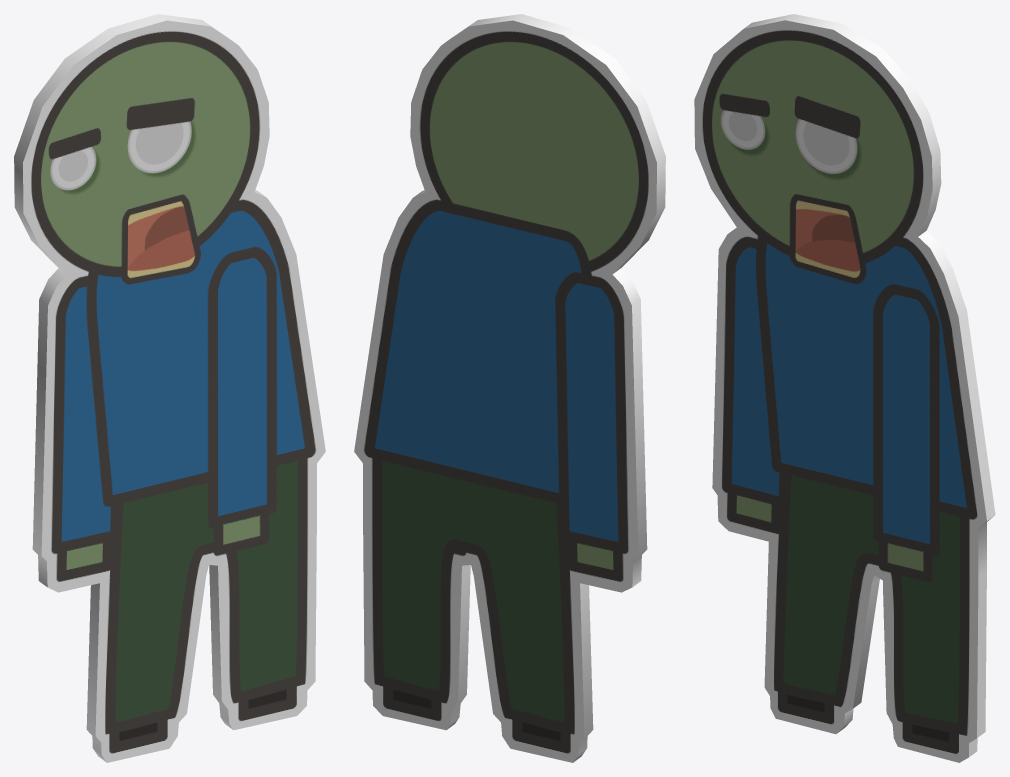
The model's file is Zombie_Passive.FBX.
3 views of the same model, side by side, from view 1: azimuth 30°, elevation 25°; view 2: azimuth 150°, elevation 25°; view 3: azimuth 330°, elevation 25° (orthographic). The views are drawn at different scales.
Visible parts, largest first — view 1: Zomb_passive; view 2: Zomb_passive; view 3: Zomb_passive.
Boxes of the visible parts, bbox=[...] form: Zomb_passive: bbox=[14, 14, 325, 762]; Zomb_passive: bbox=[354, 14, 665, 762]; Zomb_passive: bbox=[694, 14, 995, 762].
Bounding box in the file's own units: 36.57 × 84.07 × 1.85.
2 materials, 2 textured.
